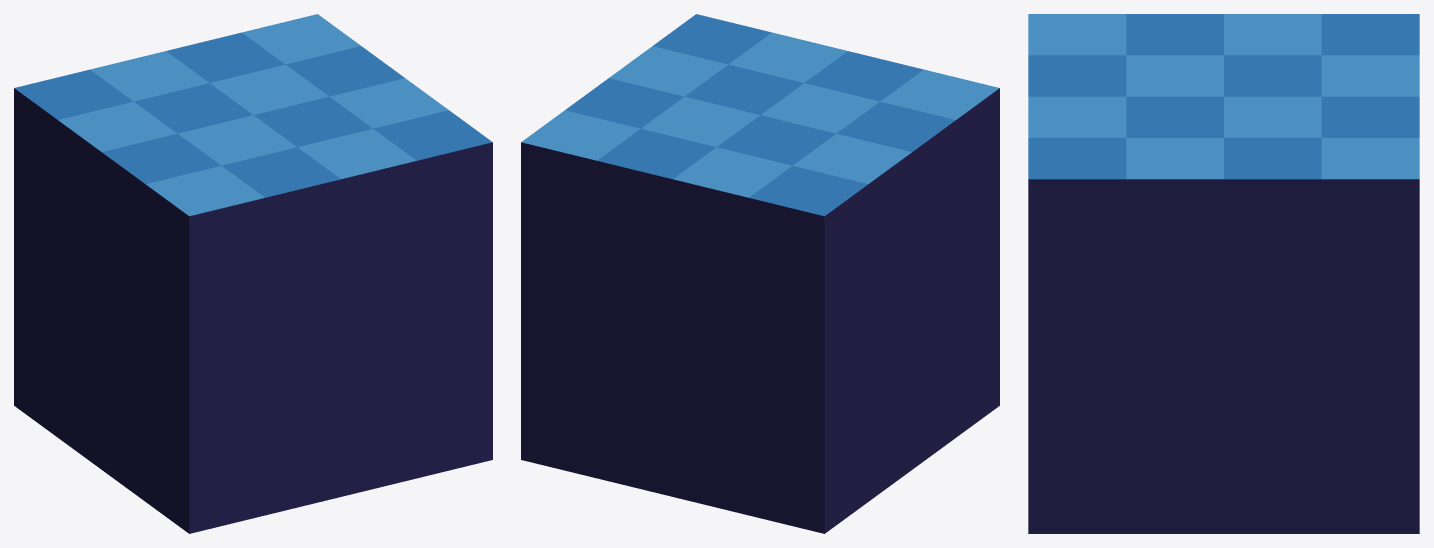
Rendered from box_blue.glb.
3 views of the same model, side by side, from view 1: azimuth 30°, elevation 25°; view 2: azimuth 150°, elevation 25°; view 3: azimuth 270°, elevation 25° (orthographic). The views are drawn at different scales.
Parts seen in each view (by area): view 1: Body; view 2: Body; view 3: Body.
Boxes of the visible parts, <box> form: Body: <box>14,14,492,533</box>; Body: <box>521,14,999,533</box>; Body: <box>1028,14,1419,533</box>.
Bounding box in the file's own units: 1 × 1 × 1.
